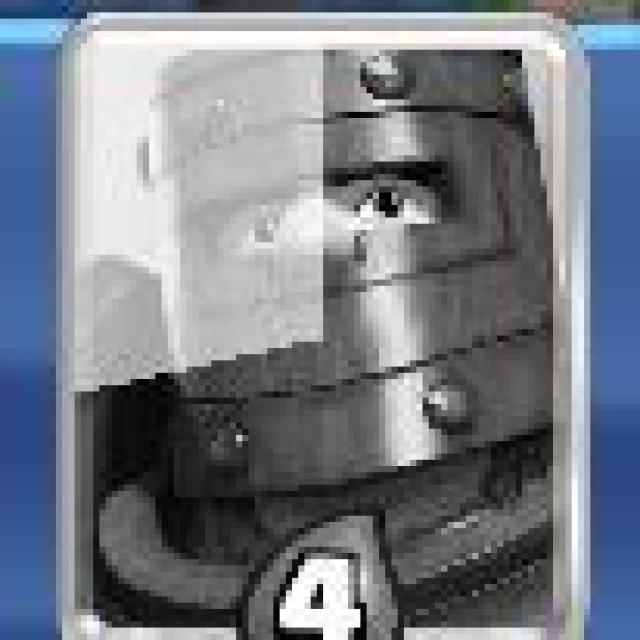Dark_Prince: (63, 10, 584, 640)
